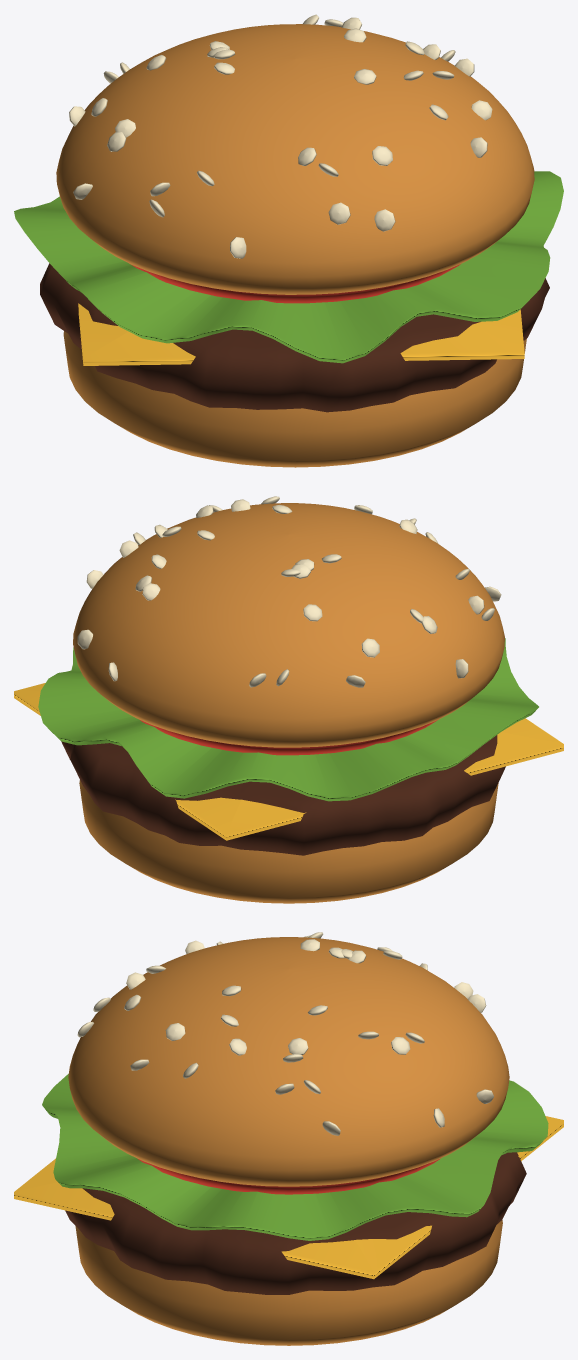
File: hamburguer.glb
3 renders of one model, top to bottom at view 1: azimuth 30°, elevation 25°; view 2: azimuth 150°, elevation 25°; view 3: azimuth 270°, elevation 25°, orthographic. The views are drawn at different scales.
Visible parts, largest first — view 1: pao, alface, carne, gergelim, queijo, tomate; view 2: pao, alface, carne, queijo, gergelim, tomate; view 3: pao, alface, carne, queijo, gergelim, tomate.
Boxes of the visible parts, left/top/right/bottom form: pao: left=56, top=24, right=534, bottom=467; alface: left=14, top=171, right=563, bottom=363; carne: left=40, top=263, right=549, bottom=412; gergelim: left=69, top=14, right=492, bottom=258; queijo: left=78, top=303, right=524, bottom=365; tomate: left=130, top=264, right=460, bottom=303; pao: left=73, top=503, right=504, bottom=903; alface: left=38, top=638, right=538, bottom=801; carne: left=61, top=735, right=505, bottom=855; queijo: left=14, top=683, right=563, bottom=840; gergelim: left=77, top=496, right=501, bottom=687; tomate: left=140, top=720, right=437, bottom=755; pao: left=68, top=937, right=509, bottom=1345; alface: left=42, top=1073, right=548, bottom=1240; carne: left=65, top=1152, right=526, bottom=1294; queijo: left=14, top=1116, right=563, bottom=1279; gergelim: left=77, top=932, right=493, bottom=1135; tomate: left=137, top=1158, right=440, bottom=1194.
Bounding box in the file's own units: 0.1414 × 0.0842 × 0.1414.
